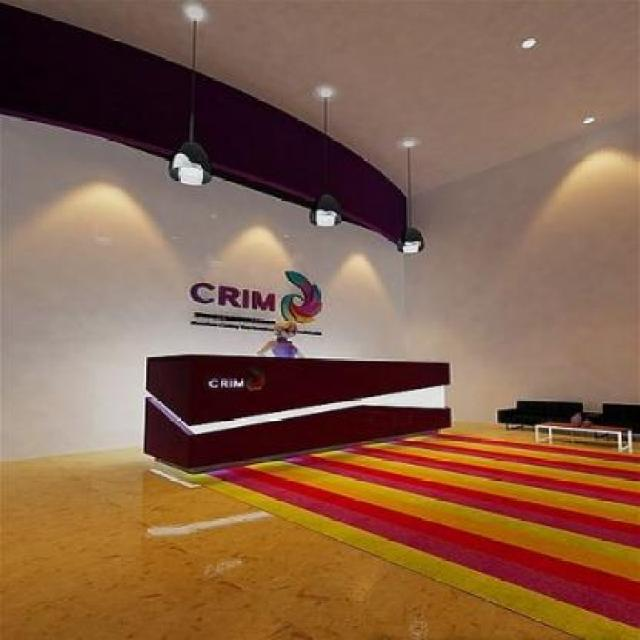frontdesk: (128, 340, 480, 495)
